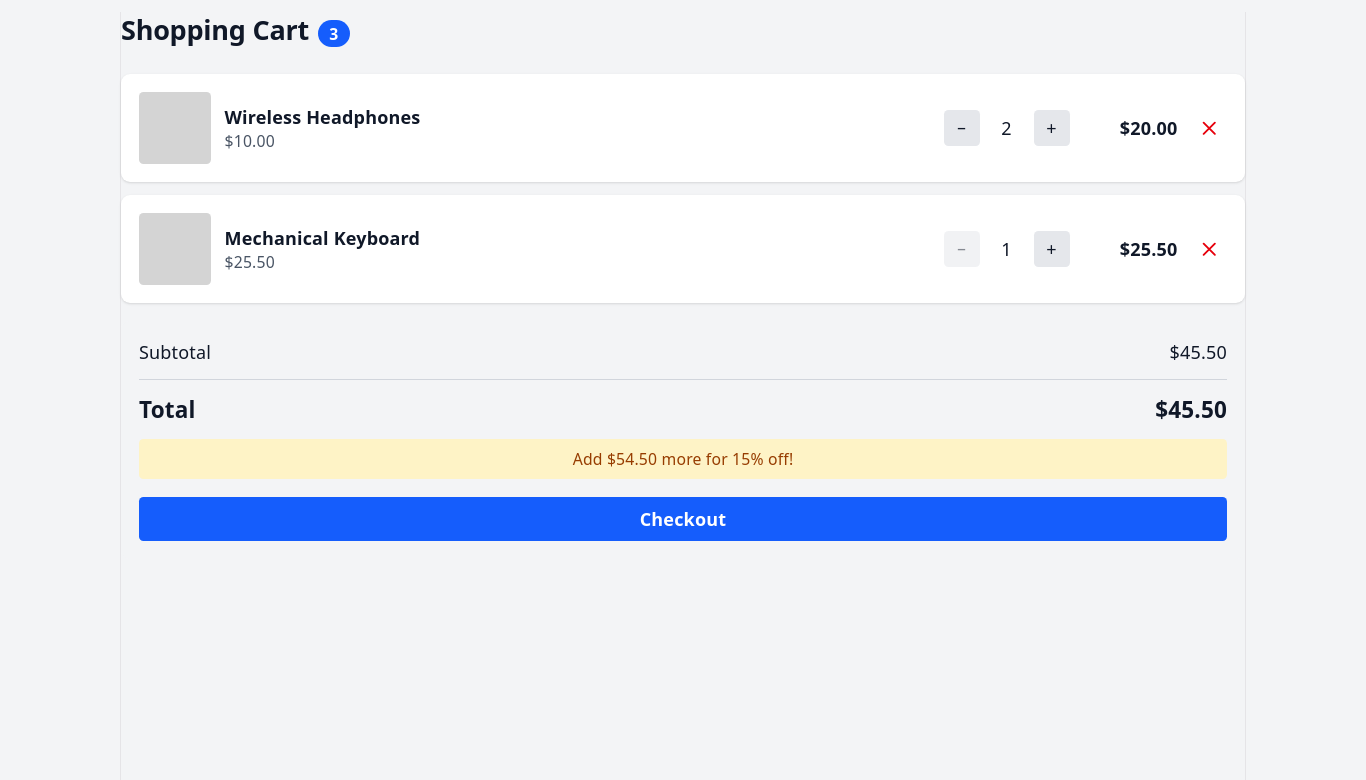
ShoppingCart › when the cart has items › removes an item with the remove button
Click the button named "Remove Wireless Headphones from cart" at (1209, 128), box [1191, 110, 1227, 146]
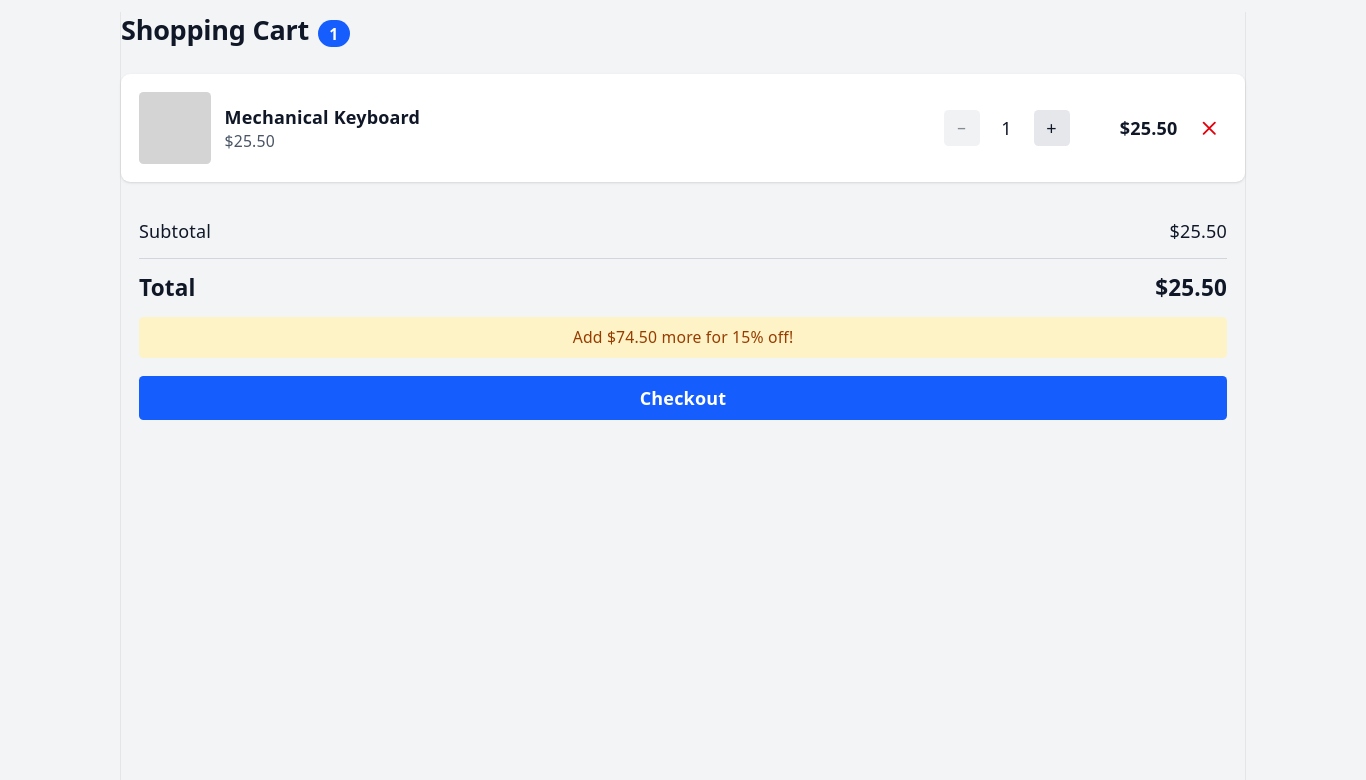
Expected: the heading "Mechanical Keyboard" is shown, [224, 105, 420, 129]
Expected: the heading "Wireless Headphones" is gone
